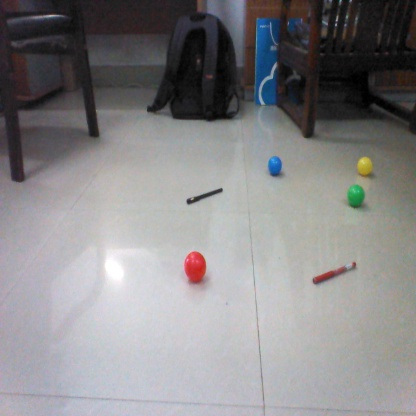ball: (180, 248, 211, 284), (344, 185, 369, 210), (263, 153, 287, 176), (353, 157, 376, 176)
pen: (311, 258, 358, 283), (186, 183, 227, 202)
